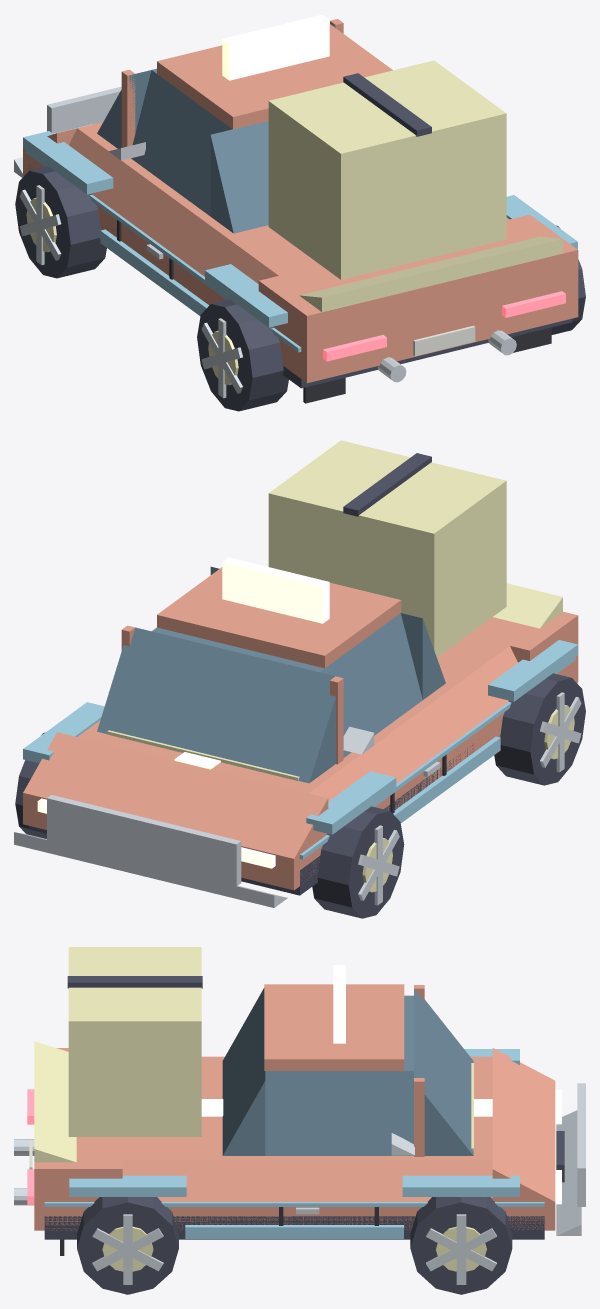
The model's file is alley_courier.glb.
3 renders of one model, top to bottom at view 1: azimuth 30°, elevation 25°; view 2: azimuth 150°, elevation 25°; view 3: azimuth 270°, elevation 25°, orthographic. The views are drawn at different scales.
Parts seen in each view (by area): view 1: CourierBox.012, Tail.038, Roof.238, Body.238, ShoulderL.035, CabinSideL.035, RearWindow.138, Wheel_RL.198, Ducktail.026, Wheel_FL.198, RoofSign.021, BodyUpper.035 (+21 smaller); view 2: CourierBox.012, Windshield.138, Nose.035, Roof.238, Bullbar.018, ShoulderL.035, CabinSideL.035, Wheel_RL.198, Wheel_FL.198, BodyUpper.035, RoofSign.021, Body.238 (+16 smaller); view 3: CourierBox.012, CabinSideR.035, ShoulderR.035, Roof.238, Nose.035, Windshield.138, BodyUpper.035, Wheel_FR.198, Wheel_RR.198, RearWindow.138, Body.238, Ducktail.026 (+21 smaller).
Boxes of the visible parts, x1,y1,x2,y2 form: CourierBox.012: (268,60,506,279); Tail.038: (258,214,578,351); Roof.238: (157,24,392,129); Body.238: (23,148,578,383); ShoulderL.035: (69,128,278,283); CabinSideL.035: (131,70,231,216); RearWindow.138: (210,121,268,233); Wheel_RL.198: (197,299,288,411); Ducktail.026: (299,236,562,312); Wheel_FL.198: (15,166,106,278); RoofSign.021: (222,14,329,80); BodyUpper.035: (77,122,509,275); CourierBox.012: (268,440,506,657); Windshield.138: (97,627,335,783); Nose.035: (23,732,328,858); Roof.238: (157,567,401,668); Bullbar.018: (47,795,241,886); ShoulderL.035: (308,646,517,801); CabinSideL.035: (320,613,422,757); Wheel_RL.198: (494,673,585,785); Wheel_FL.198: (312,806,404,918); BodyUpper.035: (78,635,509,793); RoofSign.021: (222,557,329,623); Body.238: (23,651,578,890); CourierBox.012: (68,947,201,1136); CabinSideR.035: (265,1071,413,1155); ShoulderR.035: (122,1160,492,1201); Roof.238: (264,984,404,1070); Nose.035: (492,1048,555,1201); Windshield.138: (414,989,473,1155); BodyUpper.035: (122,1056,492,1160); Wheel_FR.198: (410,1197,512,1294); Wheel_RR.198: (77,1197,178,1294); RearWindow.138: (222,988,265,1155); Body.238: (34,1202,555,1230); Ducktail.026: (34,1041,76,1162).
Size of the model in its own units: 3.4 by 2.5 by 5.38.
